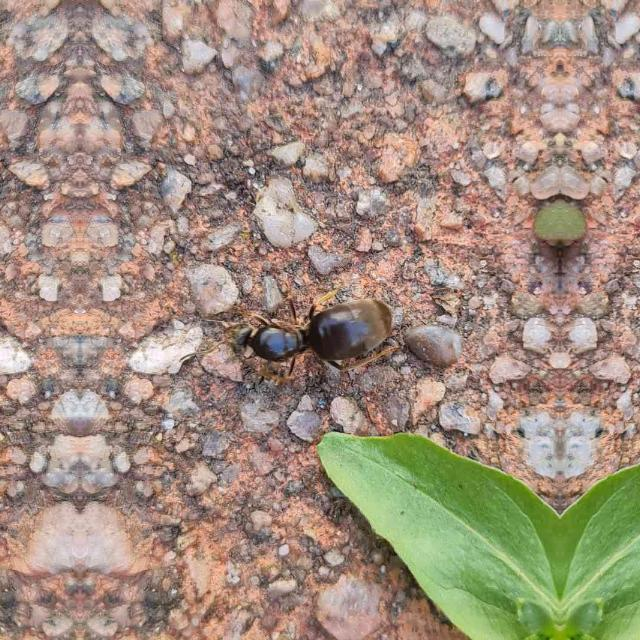Lasius: (205, 277, 418, 385)
